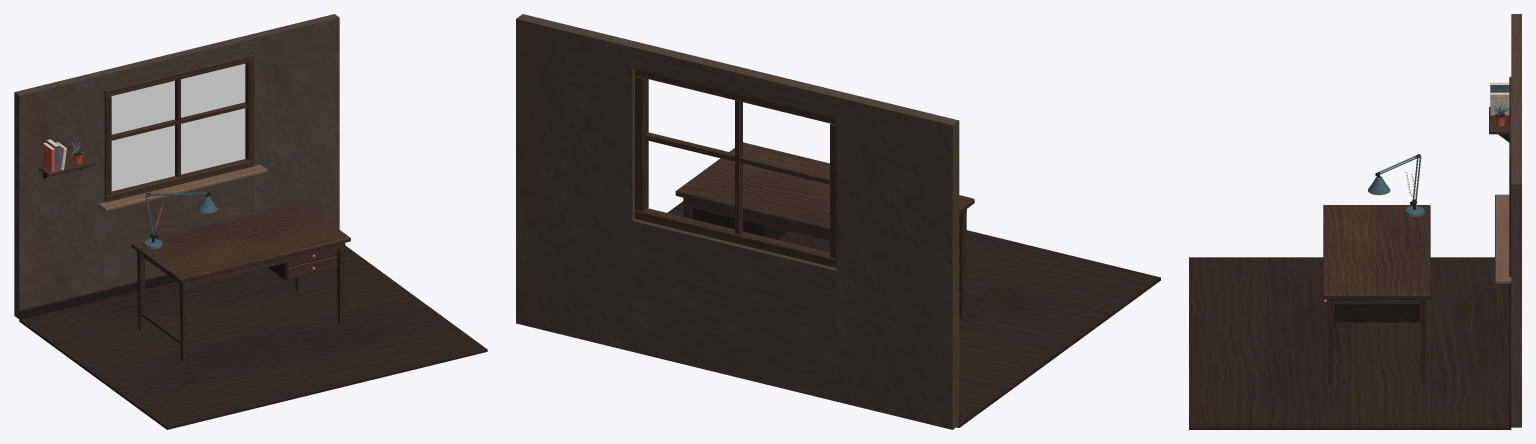
File: desk-room.glb
3 renders of one model, left to right at view 1: azimuth 30°, elevation 25°; view 2: azimuth 150°, elevation 25°; view 3: azimuth 270°, elevation 25°, orthographic. The views are drawn at different scales.
Parts seen in each view (by area): view 1: wall, floor, desk, window-glass, window-frame, shelf; view 2: wall, floor, desk, window-frame; view 3: floor, desk, wall, window-frame, shelf, lamp-arm.
Part boxes in pixels (<box>): wall: <box>14,14,339,319</box>; floor: <box>19,245,487,429</box>; desk: <box>131,202,350,361</box>; window-glass: <box>111,63,245,191</box>; window-frame: <box>98,54,267,211</box>; shelf: <box>39,139,95,179</box>; wall: <box>516,14,960,429</box>; floor: <box>667,201,1160,427</box>; desk: <box>675,142,974,316</box>; window-frame: <box>635,69,836,267</box>; floor: <box>1189,257,1511,429</box>; desk: <box>1323,205,1430,385</box>; wall: <box>1509,14,1521,427</box>; window-frame: <box>1495,76,1511,283</box>; shelf: <box>1489,82,1509,142</box>; lamp-arm: <box>1379,154,1421,205</box>.
Size of the model in its own units: 3 by 2.02 by 2.48.
3 materials, 2 textured.
